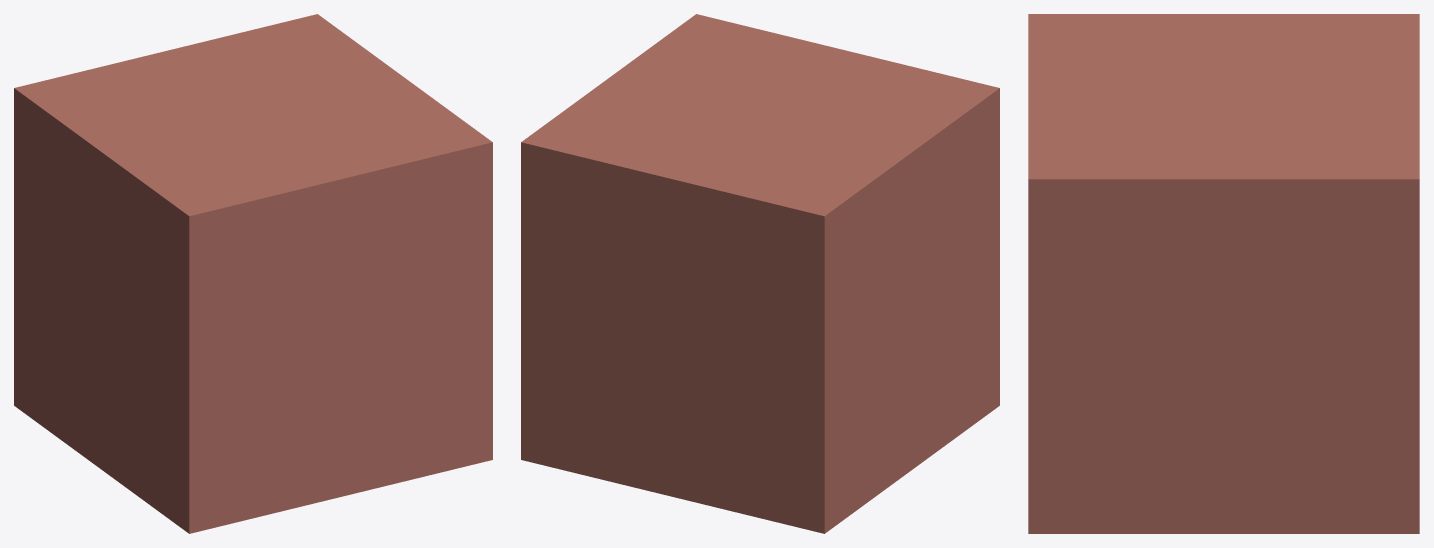
Rendered from Hazard_Full.glb.
3 renders of one model, left to right at view 1: azimuth 30°, elevation 25°; view 2: azimuth 150°, elevation 25°; view 3: azimuth 270°, elevation 25°, orthographic. The views are drawn at different scales.
Parts seen in each view (by area): view 1: Hazard_Full_body; view 2: Hazard_Full_body; view 3: Hazard_Full_body.
Boxes of the visible parts, x1,y1,x2,y2 form: Hazard_Full_body: [14, 14, 492, 533]; Hazard_Full_body: [521, 14, 999, 533]; Hazard_Full_body: [1028, 14, 1419, 533].
Bounding box in the file's own units: 1 × 1 × 1.
